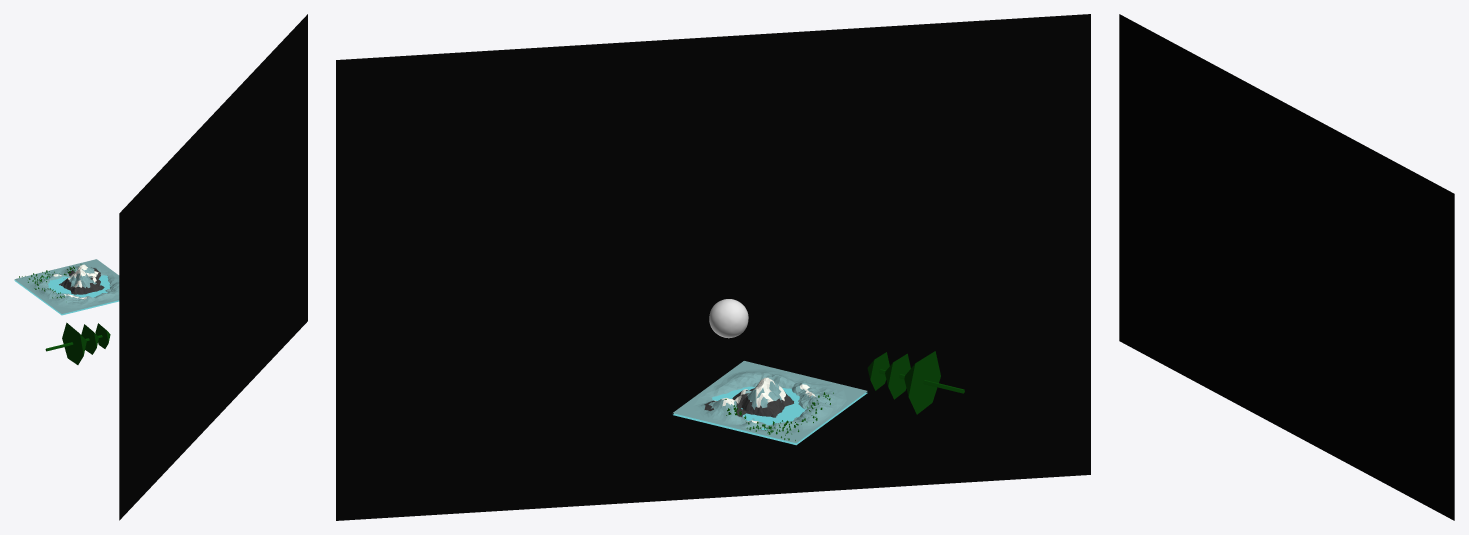
The model's file is Snowy_area.fbx.
3 views of the same model, side by side, from view 1: azimuth 30°, elevation 25°; view 2: azimuth 150°, elevation 25°; view 3: azimuth 270°, elevation 25° (orthographic). The views are drawn at different scales.
Visible parts, largest first — view 1: etienne-bosiger-WTkUYzNCu-A-unsplash, Landscape.001, Cone.002, Landscape_plane.001; view 2: etienne-bosiger-WTkUYzNCu-A-unsplash, Landscape.001, Cone.002, Landscape_plane.001, Icosphere; view 3: etienne-bosiger-WTkUYzNCu-A-unsplash.
Boxes of the visible parts, bbox=[...] form: etienne-bosiger-WTkUYzNCu-A-unsplash: bbox=[119, 14, 307, 520]; Landscape.001: bbox=[14, 259, 119, 313]; Cone.002: bbox=[45, 322, 110, 364]; Landscape_plane.001: bbox=[14, 275, 119, 315]; etienne-bosiger-WTkUYzNCu-A-unsplash: bbox=[336, 14, 1090, 520]; Landscape.001: bbox=[673, 361, 867, 443]; Cone.002: bbox=[867, 351, 964, 414]; Landscape_plane.001: bbox=[673, 386, 867, 445]; Icosphere: bbox=[709, 299, 748, 338]; etienne-bosiger-WTkUYzNCu-A-unsplash: bbox=[1119, 14, 1454, 520].
Size of the model in its own units: 837 by 710 by 659.
